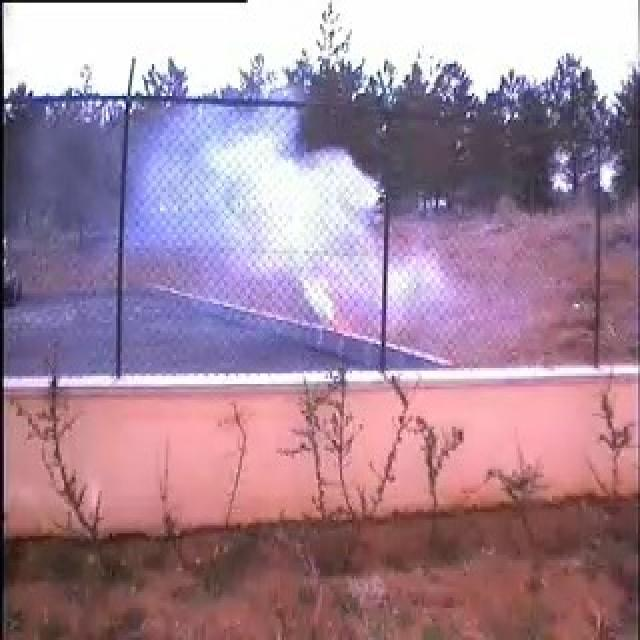smoke: (111, 87, 443, 342)
